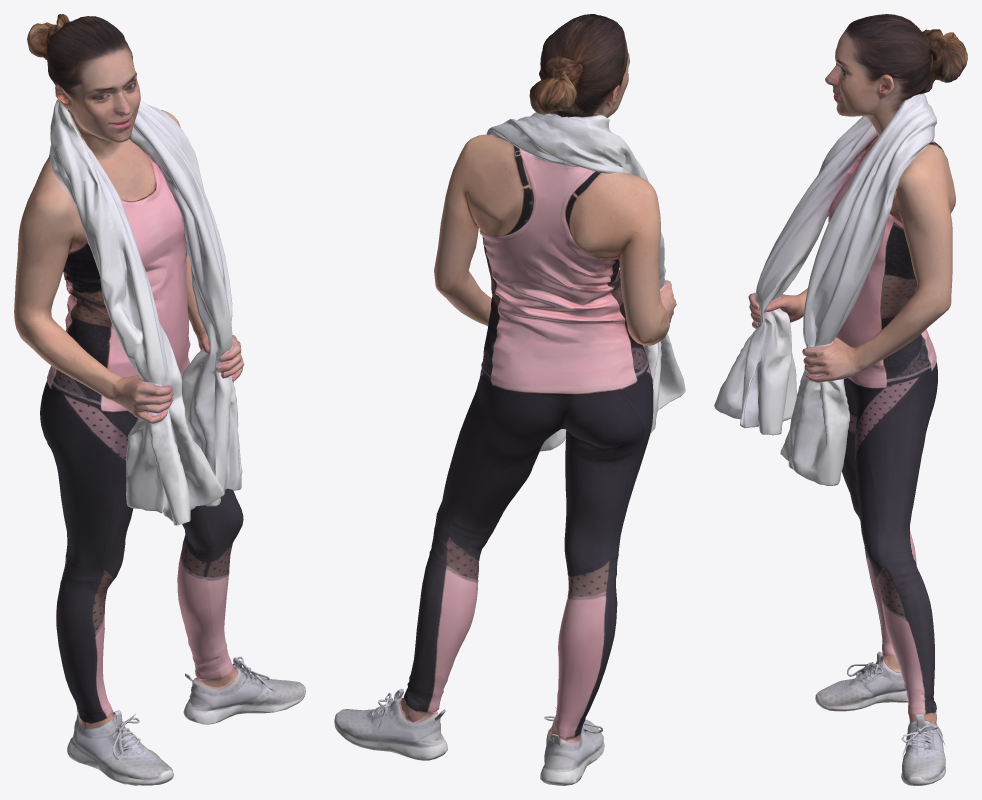
File: WomanStandingAfterWorkout.glb
3 views of the same model, side by side, from view 1: azimuth 30°, elevation 25°; view 2: azimuth 150°, elevation 25°; view 3: azimuth 270°, elevation 25° (orthographic). The views are drawn at different scales.
Parts seen in each view (by area): view 1: Object_2; view 2: Object_2; view 3: Object_2.
Boxes of the visible parts, x1,y1,x2,y2 form: Object_2: (14, 14, 305, 785); Object_2: (334, 14, 685, 785); Object_2: (714, 14, 967, 785).
Size of the model in its own units: 68.02 by 160 by 54.52.
1 material, 1 textured.
